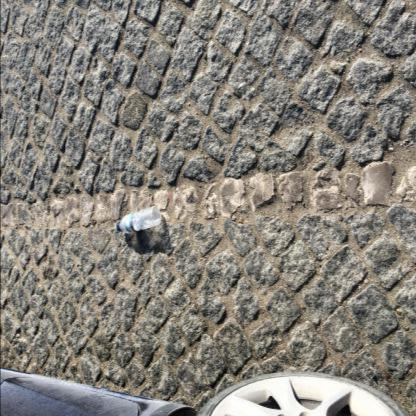Bottle: (116, 222, 120, 232)
Bottle cap: (116, 206, 160, 234)
